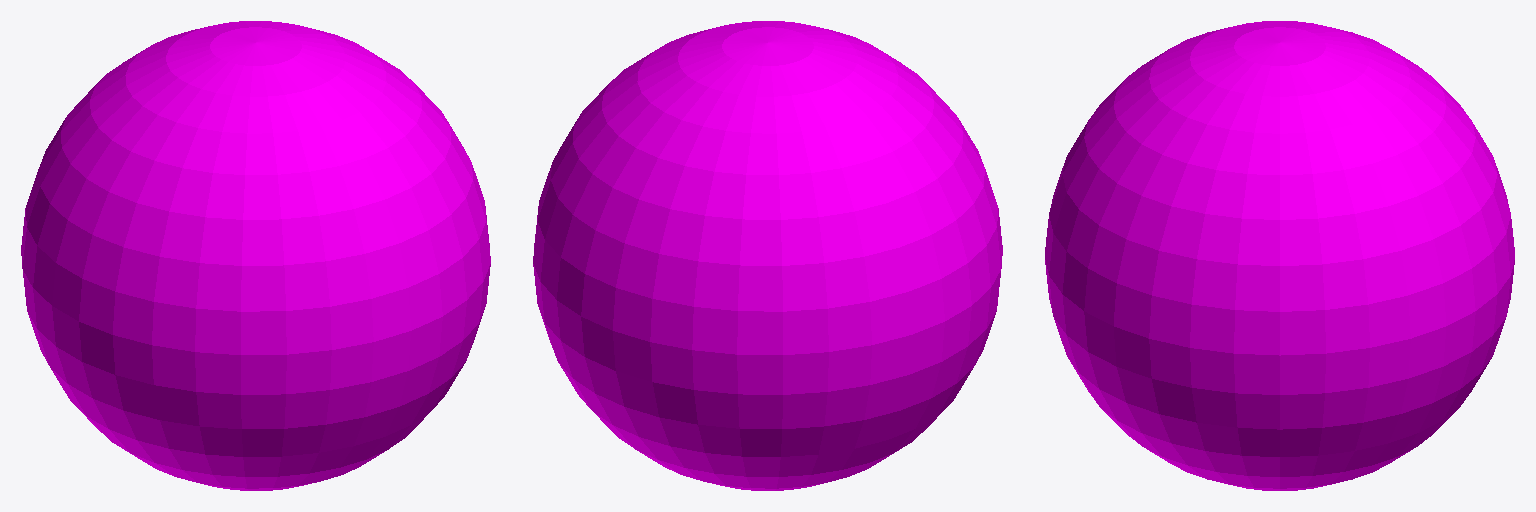
Rendered from vertex.obj.
3 renders of one model, left to right at view 1: azimuth 30°, elevation 25°; view 2: azimuth 150°, elevation 25°; view 3: azimuth 270°, elevation 25°, orthographic.
Parts seen in each view (by area): view 1: vertex; view 2: vertex; view 3: vertex.
Part boxes in pixels (left/top/right/bottom): vertex: left=21, top=21, right=490, bottom=490; vertex: left=533, top=21, right=1002, bottom=490; vertex: left=1045, top=21, right=1514, bottom=490.
Size of the model in its own units: 39.47 by 39.47 by 39.47.